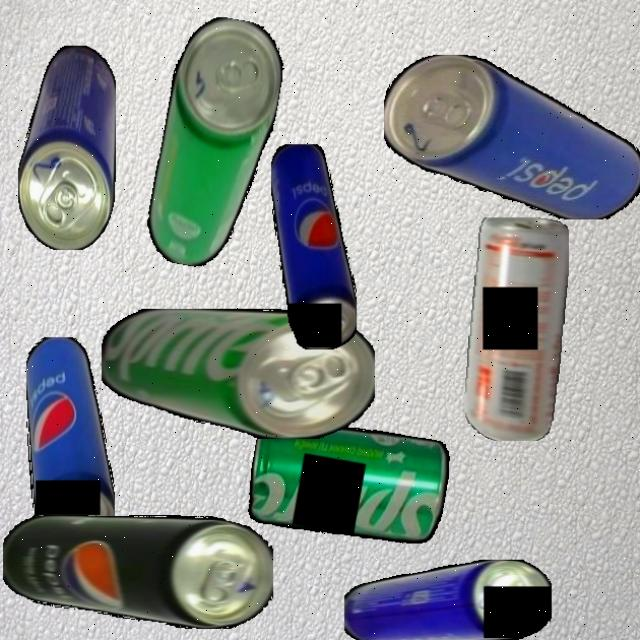debris: (384, 54, 640, 219), (141, 11, 291, 275), (100, 309, 375, 439), (2, 515, 273, 629), (243, 411, 454, 554), (464, 216, 569, 441), (17, 45, 116, 250), (25, 336, 115, 556), (270, 143, 357, 350), (343, 559, 551, 640)
